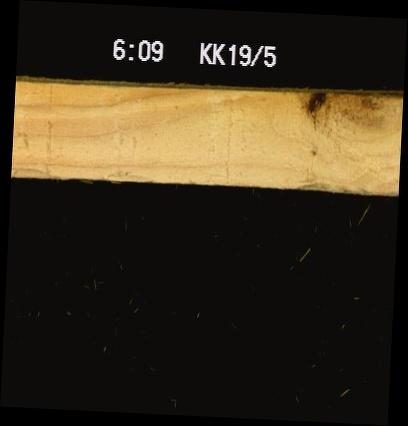wave: (285, 176, 373, 191), (100, 165, 155, 181), (11, 163, 63, 177)
